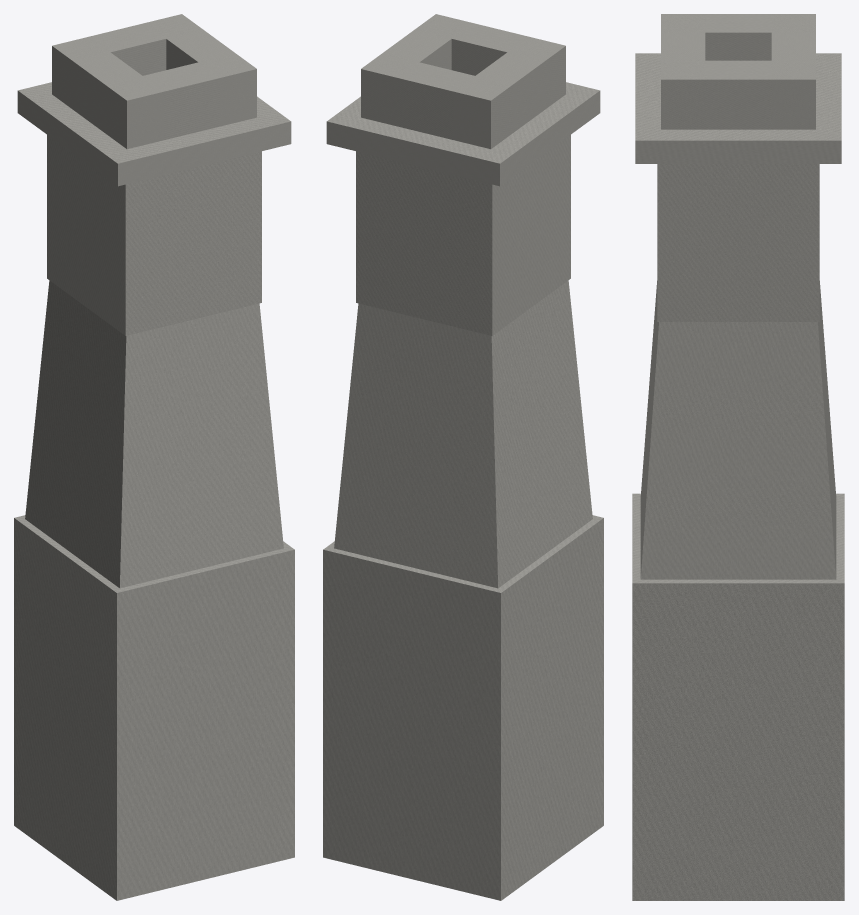
Rendered from stone-chimney-stack-4-6-m.glb.
The picture shows the model from 3 angles, left to right: view 1: azimuth 30°, elevation 25°; view 2: azimuth 150°, elevation 25°; view 3: azimuth 270°, elevation 25°; orthographic projection. The views are drawn at different scales.
Visible parts, largest first — view 1: blacksmith-forge-and-armoury-chimney-stack; view 2: blacksmith-forge-and-armoury-chimney-stack; view 3: blacksmith-forge-and-armoury-chimney-stack.
Part boxes in pixels (x1,y1,x2,y2): blacksmith-forge-and-armoury-chimney-stack: (14,14,294,900); blacksmith-forge-and-armoury-chimney-stack: (323,14,603,900); blacksmith-forge-and-armoury-chimney-stack: (632,14,844,900).
Size of the model in its own units: 1.15 by 4.84 by 1.15.
Materials: 2 (1 with a texture image).
